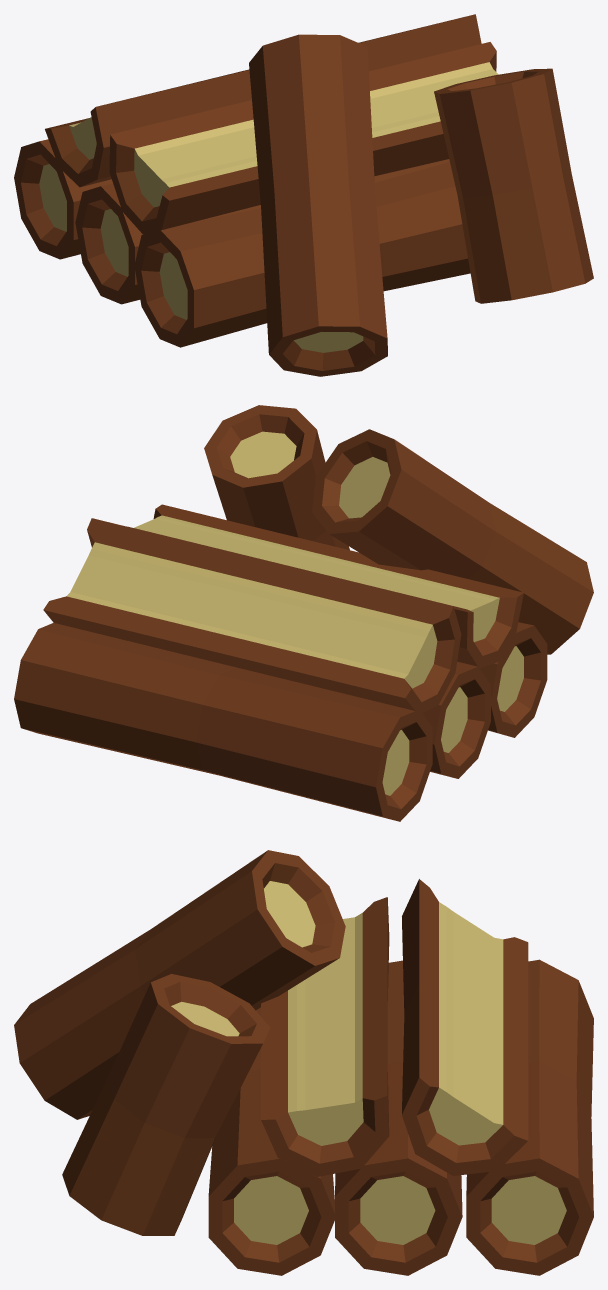
The model's file is drewno.fbx.
The picture shows the model from 3 angles, top to bottom: view 1: azimuth 30°, elevation 25°; view 2: azimuth 150°, elevation 25°; view 3: azimuth 270°, elevation 25°; orthographic projection. The views are drawn at different scales.
Parts seen in each view (by area): view 1: Circle.001; view 2: Circle.001; view 3: Circle.001.
Boxes of the visible parts, x1,y1,x2,y2 form: Circle.001: (14, 14, 593, 376); Circle.001: (14, 405, 593, 821); Circle.001: (14, 850, 593, 1275).
Size of the model in its own units: 526 by 366 by 649.
